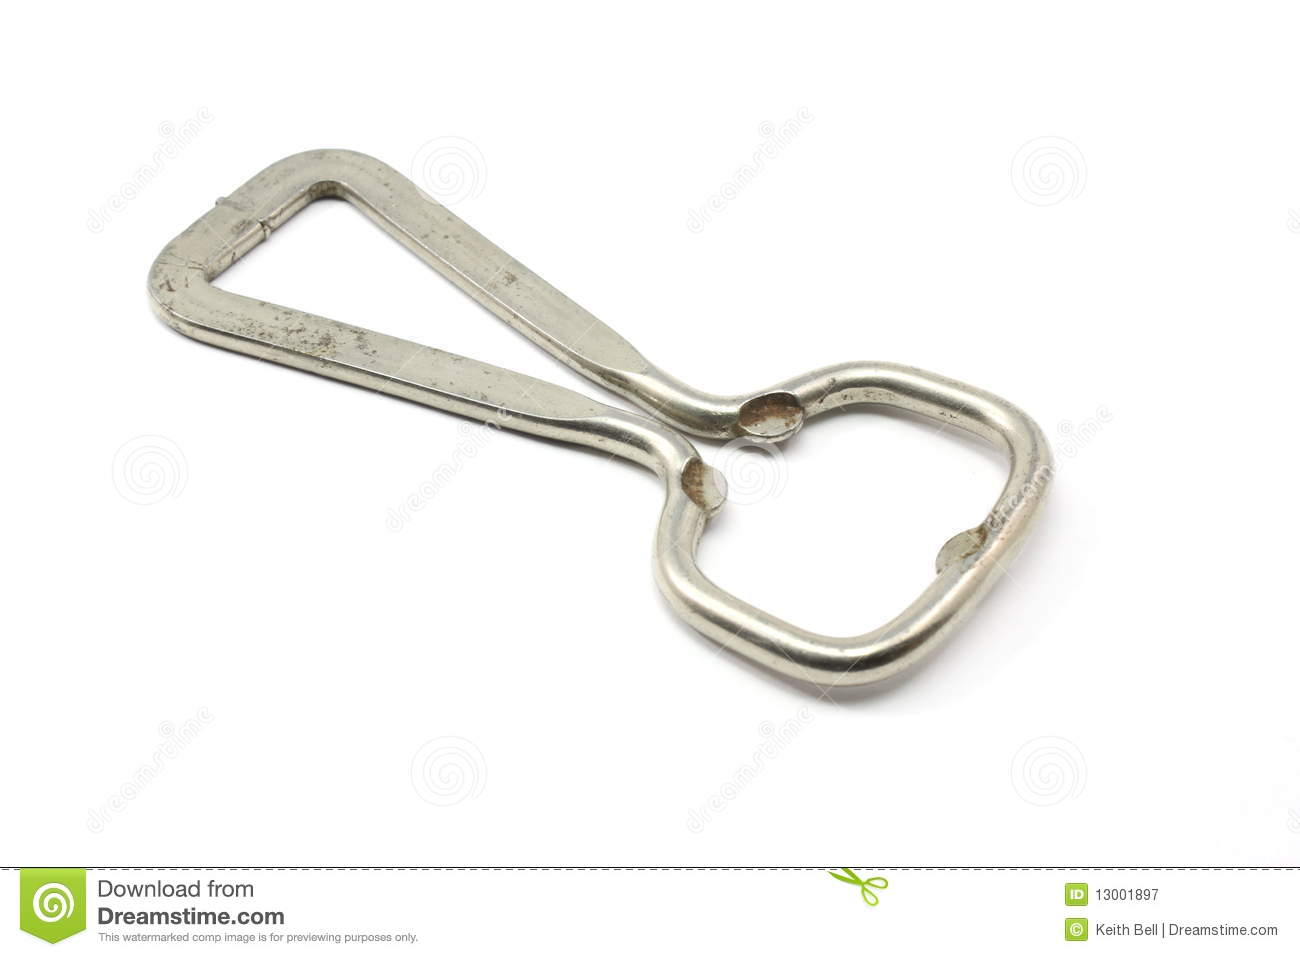bottleopener: (144, 148, 1050, 694)
